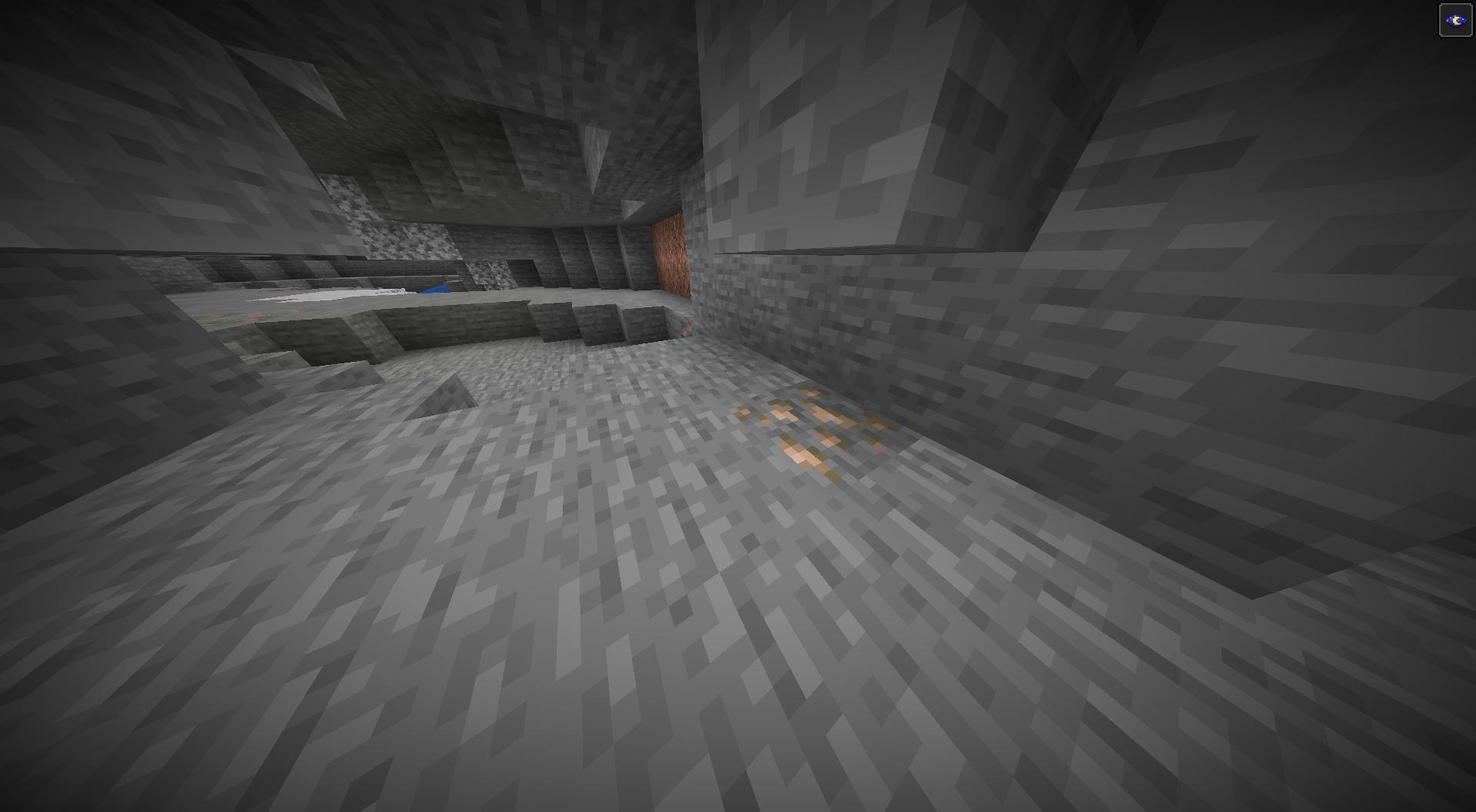iron ore: (746, 374, 877, 488)
